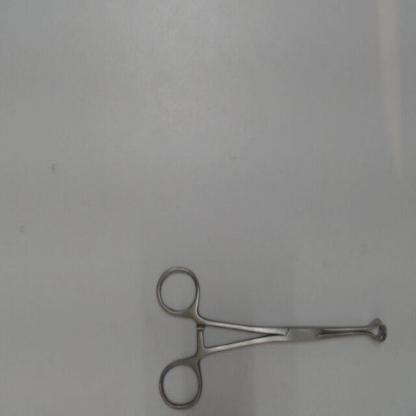Babcock Tissue Forceps: (153, 259, 391, 414)
